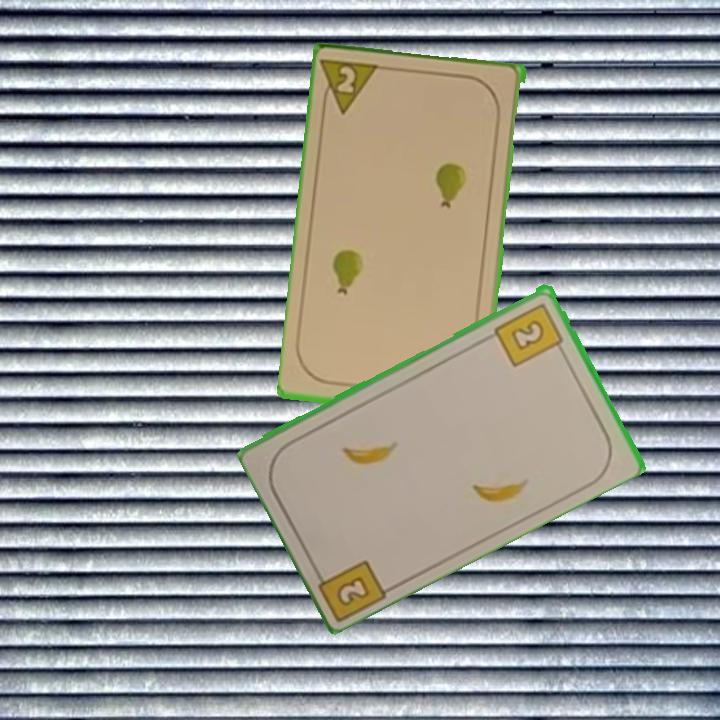2b: (491, 299, 568, 370), (310, 555, 391, 621)
2p: (319, 56, 386, 118)
